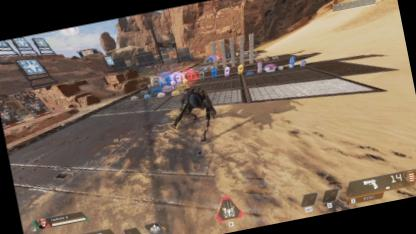Target: (174, 82, 217, 126)
